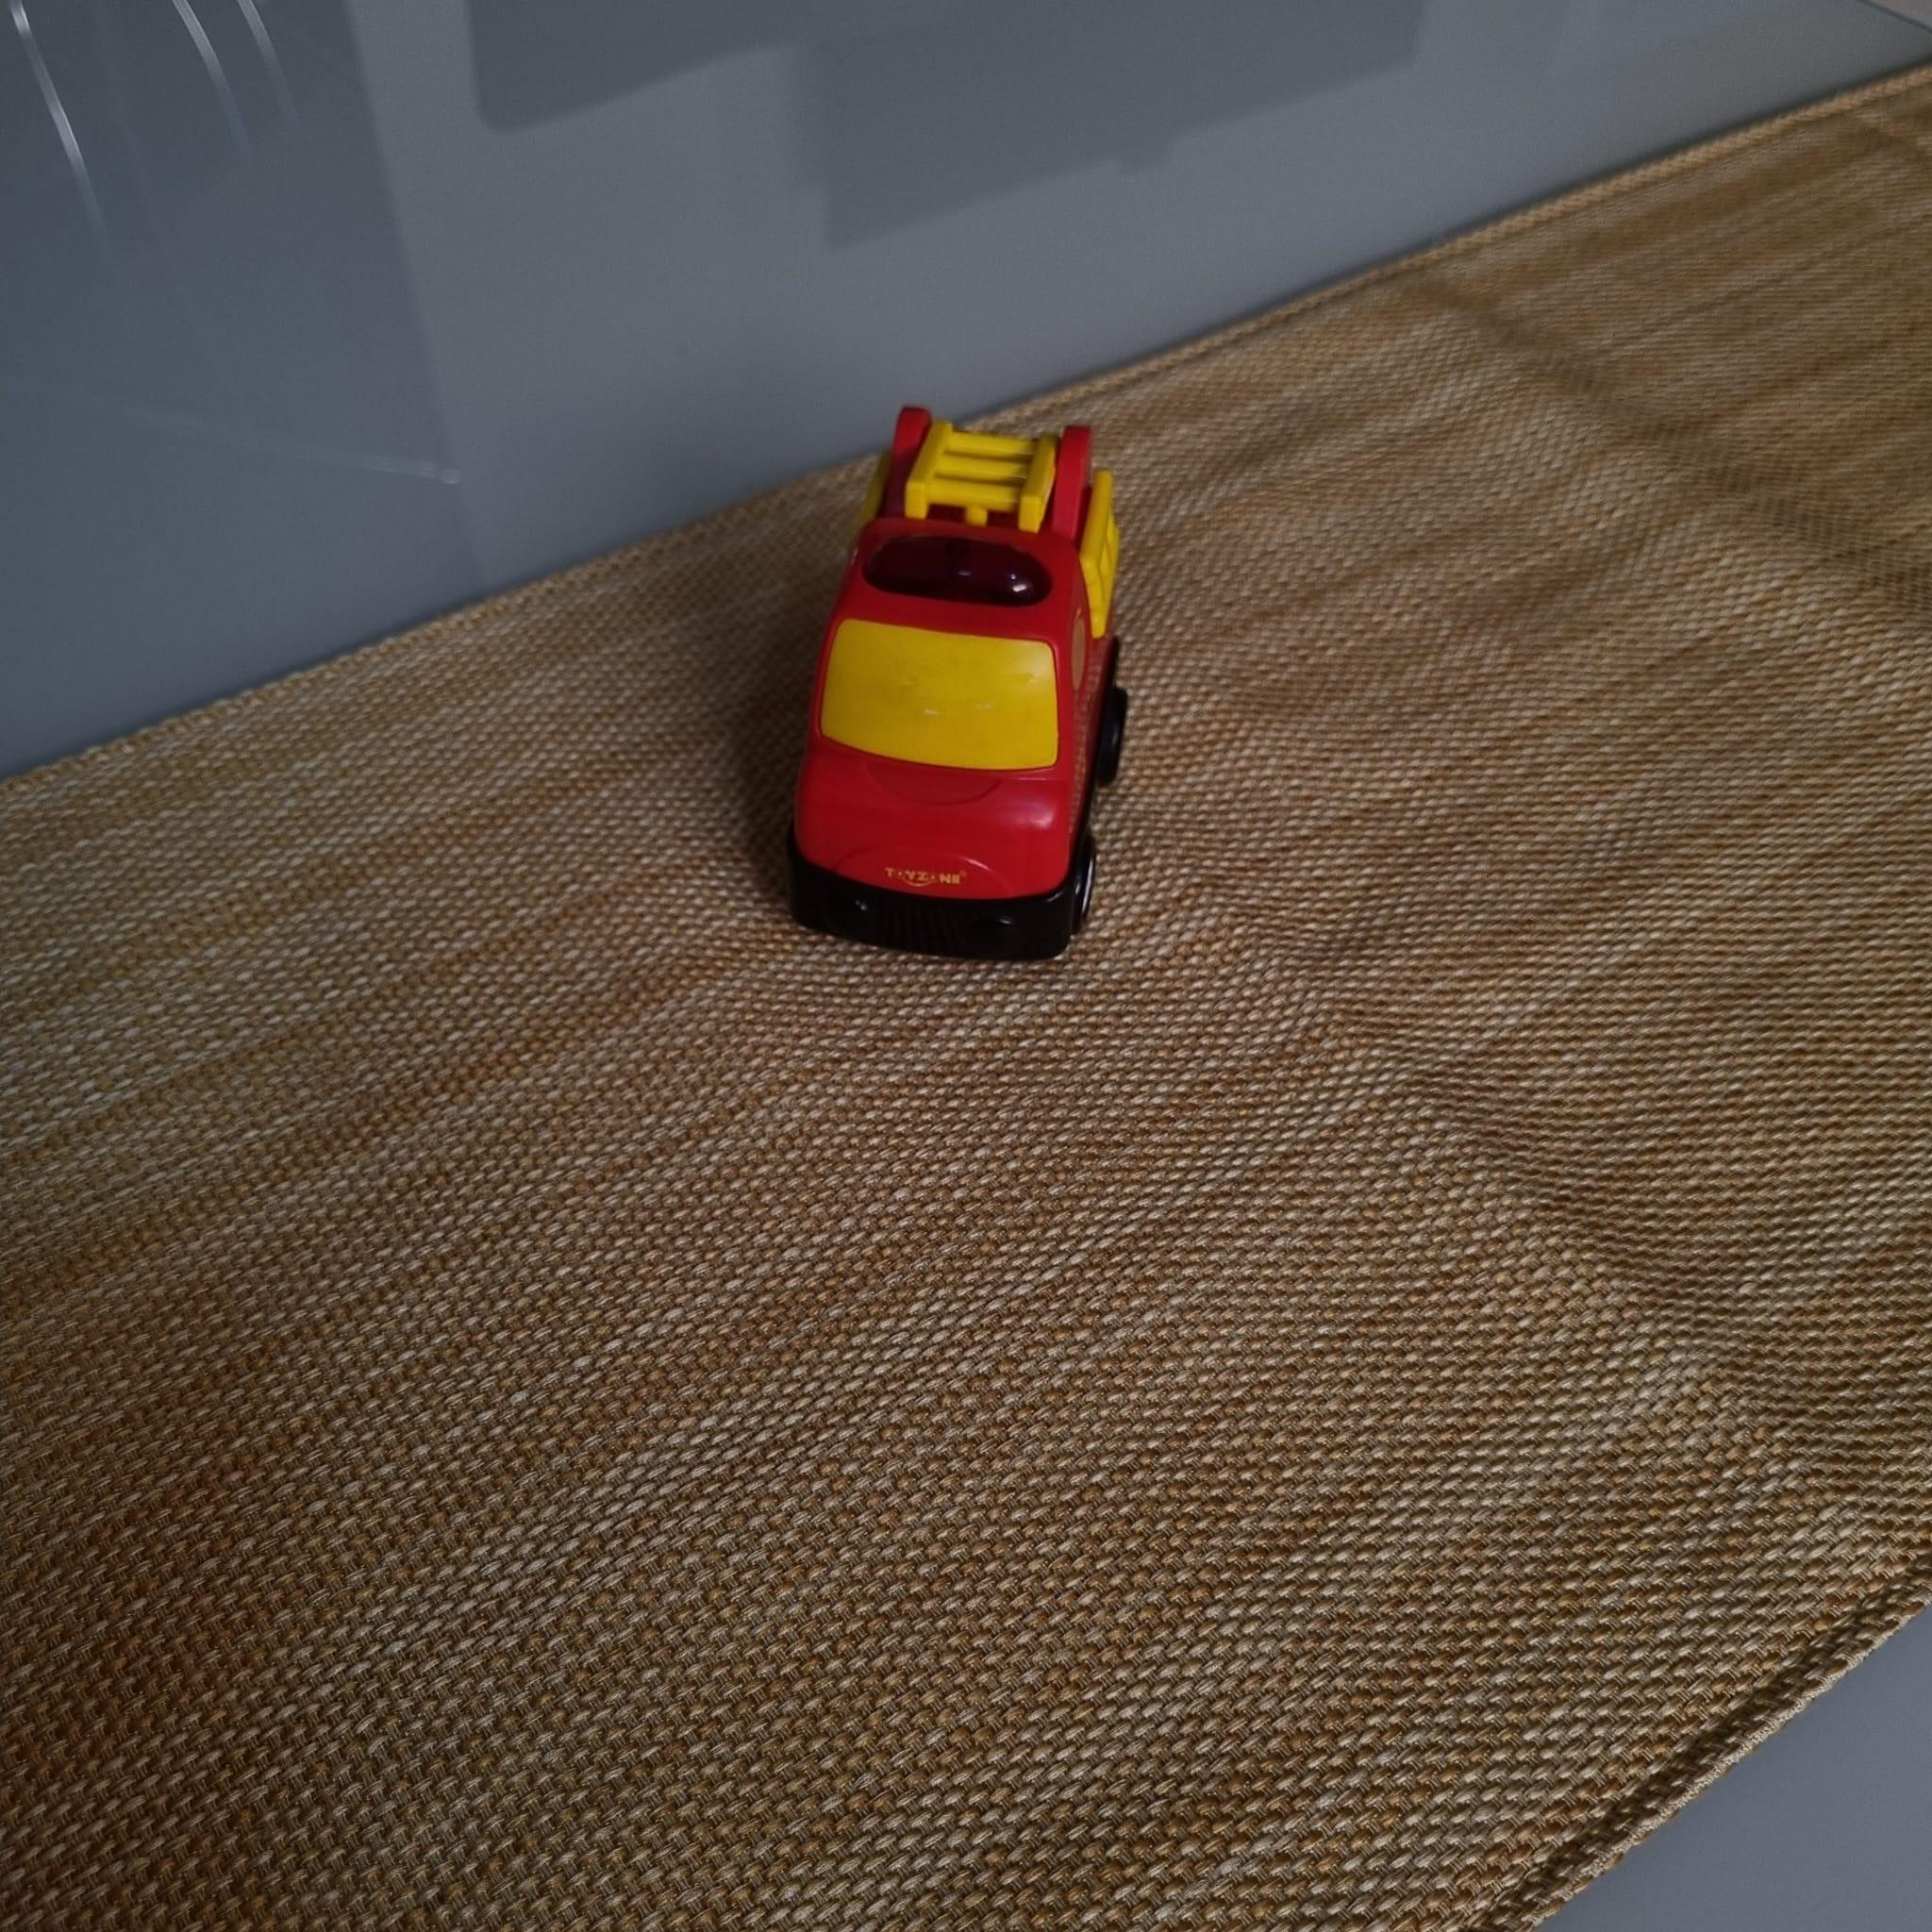firetruck_off: (793, 393, 1136, 971)
